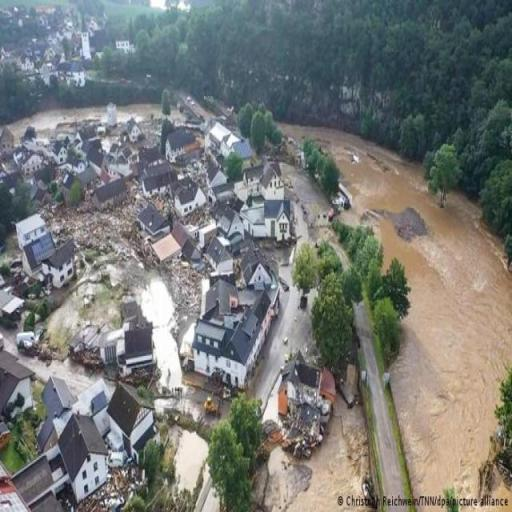flood: (289, 126, 512, 512), (265, 398, 374, 512), (250, 292, 310, 418), (142, 278, 182, 390), (6, 107, 105, 145), (171, 429, 207, 490), (120, 103, 160, 120), (202, 494, 218, 512)
house: (192, 281, 282, 391), (57, 413, 114, 505), (102, 384, 154, 467), (0, 451, 53, 512), (0, 348, 34, 434), (16, 213, 56, 275), (255, 180, 292, 244), (117, 325, 161, 368), (40, 373, 75, 416), (42, 246, 76, 288), (134, 198, 172, 235), (92, 172, 128, 208), (174, 182, 208, 220), (242, 247, 272, 287), (206, 237, 233, 276), (0, 284, 24, 324), (15, 144, 45, 176), (164, 130, 192, 162), (219, 207, 246, 240), (141, 166, 170, 196), (56, 62, 86, 87), (208, 122, 230, 150), (60, 172, 78, 202), (230, 138, 254, 160), (208, 164, 229, 187), (126, 120, 144, 142), (88, 151, 106, 173), (75, 125, 96, 143), (54, 142, 68, 165), (114, 36, 134, 52)
